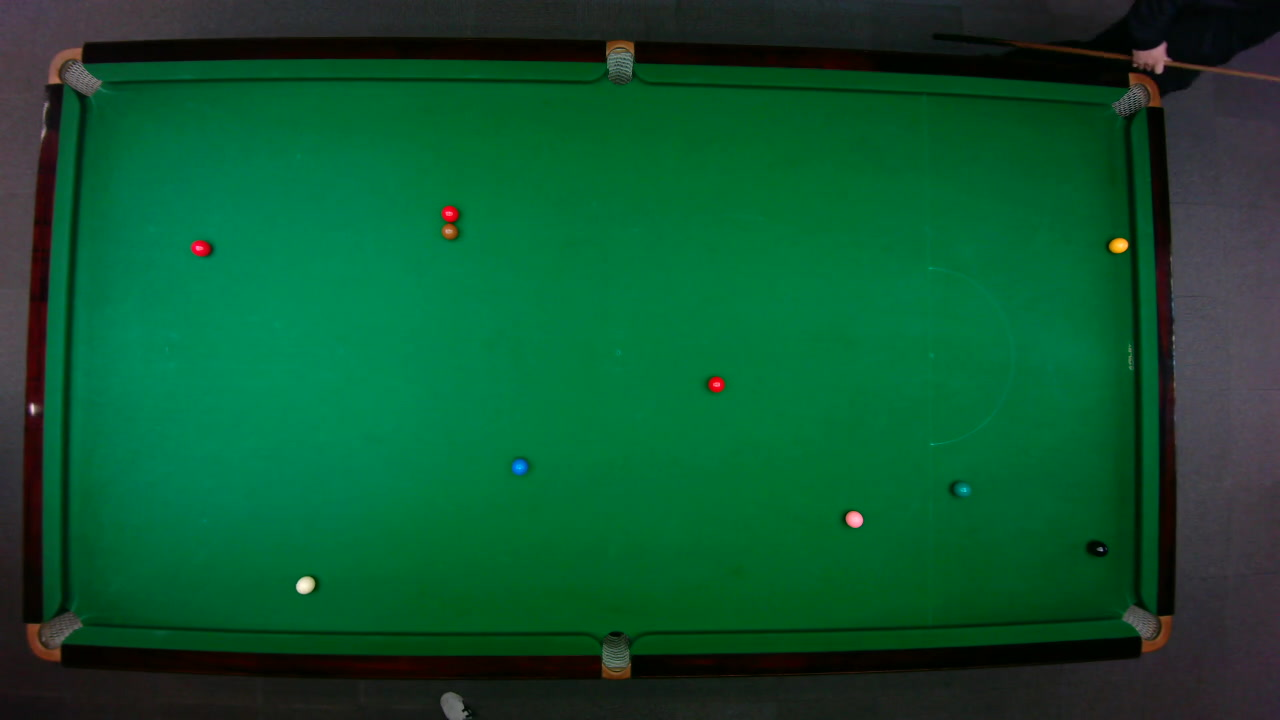bag: (24, 609, 83, 661), (45, 46, 102, 96), (1119, 603, 1172, 652), (1109, 71, 1161, 118), (600, 629, 630, 680), (605, 38, 633, 85)
black: (1087, 539, 1108, 557)
blue: (510, 457, 528, 475)
brown: (440, 223, 458, 240)
green: (951, 480, 971, 497)
pink: (843, 509, 864, 528)
red: (189, 238, 211, 257), (706, 374, 725, 393), (439, 204, 459, 222)
white: (294, 574, 316, 594)
yellow: (1107, 236, 1129, 253)
zone: (927, 265, 1013, 445)
